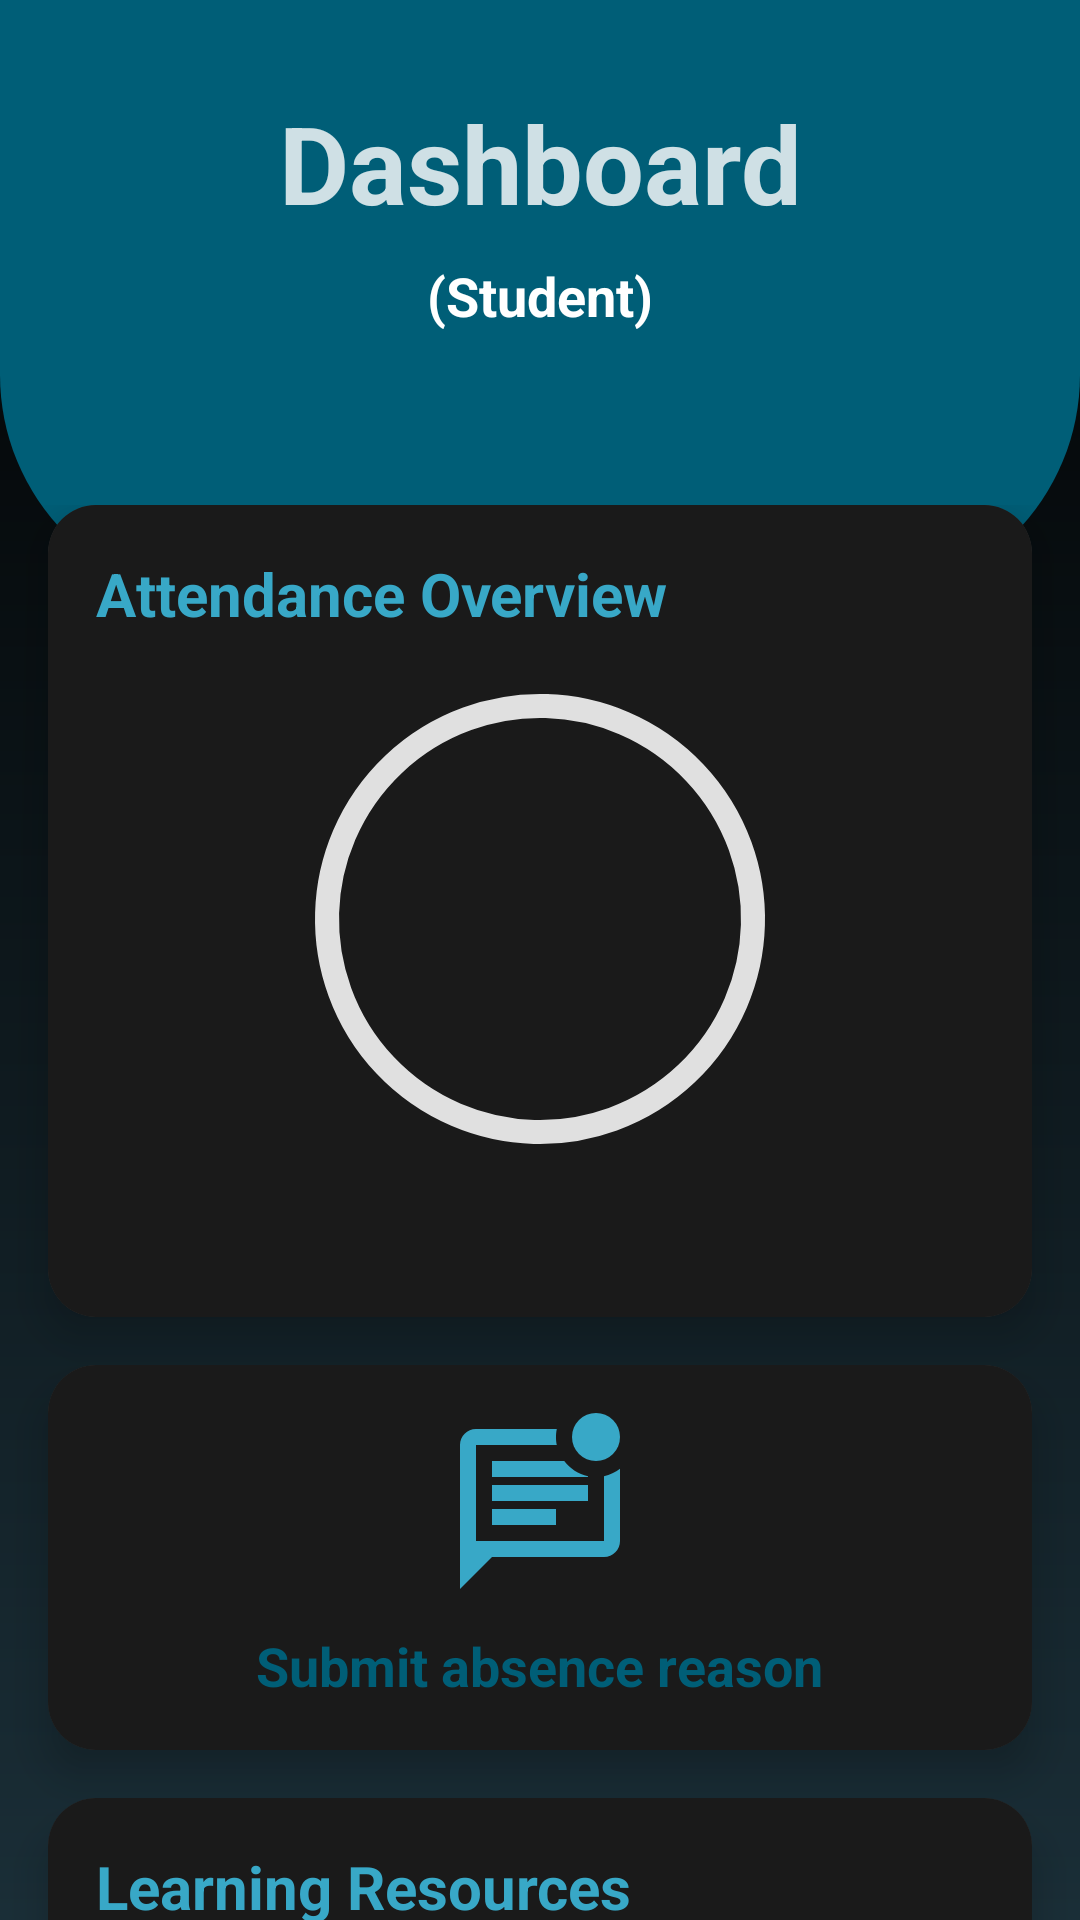

Where to tap for icons on this 1080*1920 app screen, as point (x, y):
parents note: point (540, 1501)
